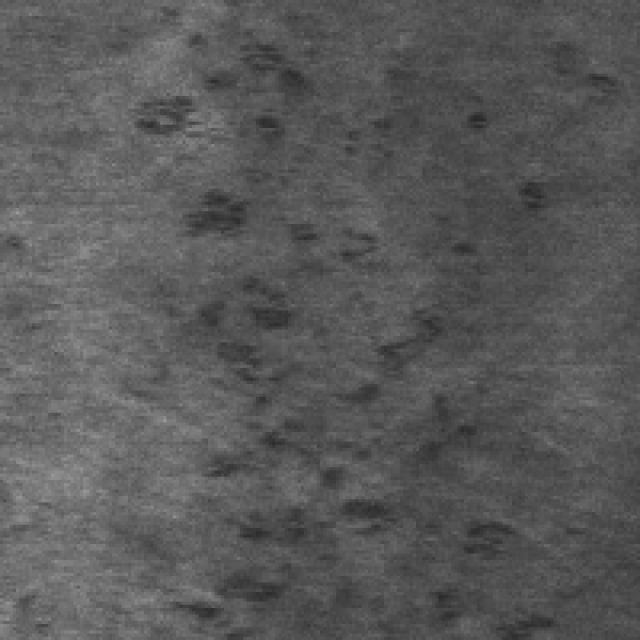rolled-in_scale: (176, 272, 512, 634), (131, 0, 320, 288)
